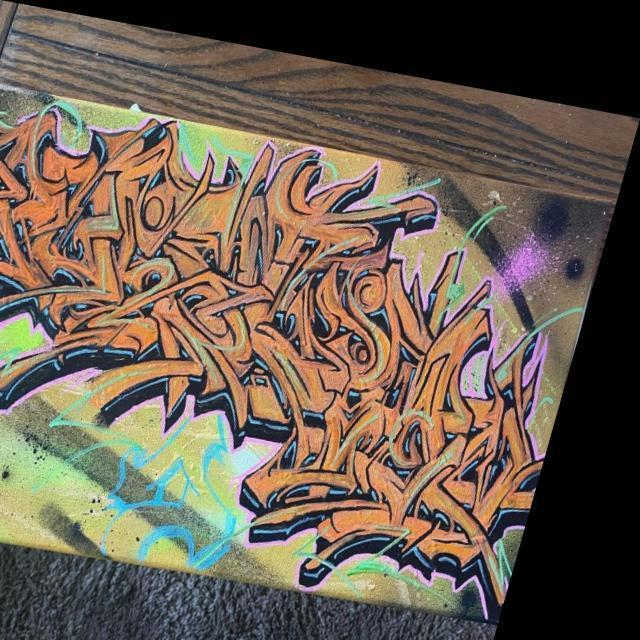-: (0, 83, 621, 602), (0, 472, 3, 535)
